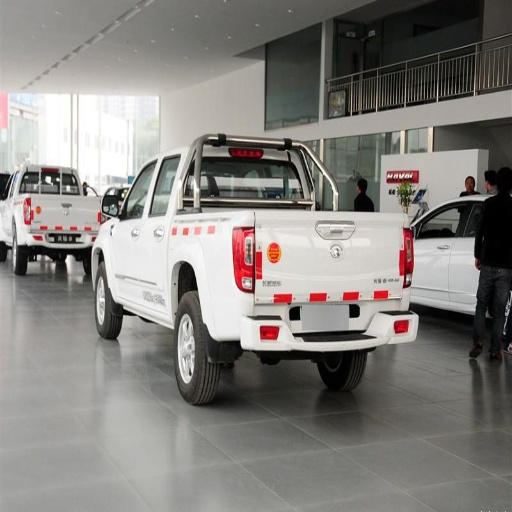back_bumper: (234, 302, 407, 348)
back_glass: (205, 158, 308, 205)
back_left_door: (142, 169, 171, 304)
trunk: (166, 207, 403, 338)
